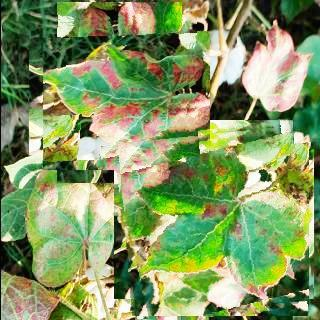blight: (117, 124, 308, 316), (42, 15, 195, 170)
